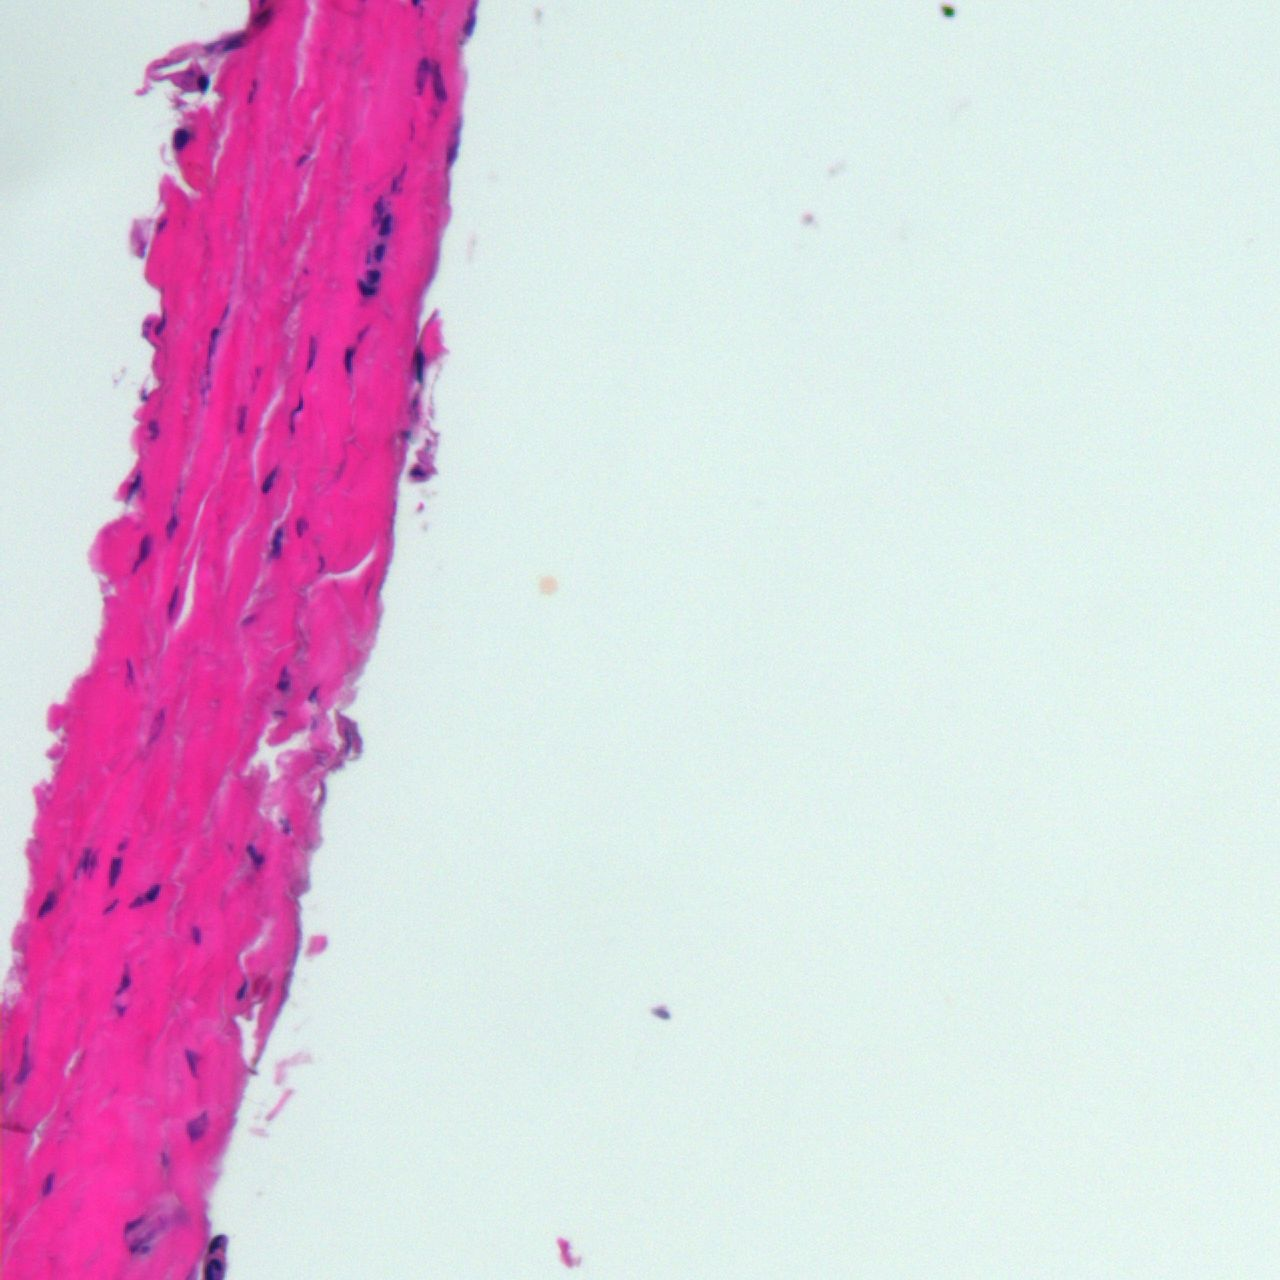dust: (938, 2, 954, 18)
nucleus-HE: (368, 195, 399, 238), (127, 881, 164, 914), (129, 531, 156, 574), (444, 114, 464, 168), (285, 390, 309, 430), (73, 846, 100, 881), (120, 470, 145, 502), (185, 1111, 210, 1142), (243, 839, 267, 869), (459, 1, 481, 35), (352, 279, 381, 301), (38, 888, 59, 919), (258, 467, 280, 493), (431, 57, 445, 100), (415, 55, 430, 94), (164, 584, 181, 617), (107, 856, 122, 888), (390, 161, 406, 192), (222, 34, 248, 52), (172, 125, 191, 150), (270, 525, 284, 558), (116, 964, 130, 996), (413, 348, 425, 383), (305, 335, 316, 372), (206, 325, 217, 361), (122, 658, 135, 687), (256, 8, 274, 28), (207, 1234, 227, 1253), (164, 513, 178, 538), (236, 404, 247, 434), (234, 979, 248, 1001), (343, 343, 354, 372), (148, 417, 161, 440), (275, 676, 291, 695), (103, 897, 118, 915), (343, 726, 353, 755), (42, 1173, 54, 1194), (197, 72, 207, 93), (373, 243, 384, 261), (155, 316, 166, 335), (366, 268, 381, 282), (293, 151, 307, 166), (308, 683, 319, 703), (247, 79, 256, 103), (411, 397, 420, 421), (295, 518, 306, 536), (410, 467, 425, 478), (400, 427, 411, 438), (157, 218, 168, 231), (272, 707, 288, 715), (192, 926, 200, 942)
